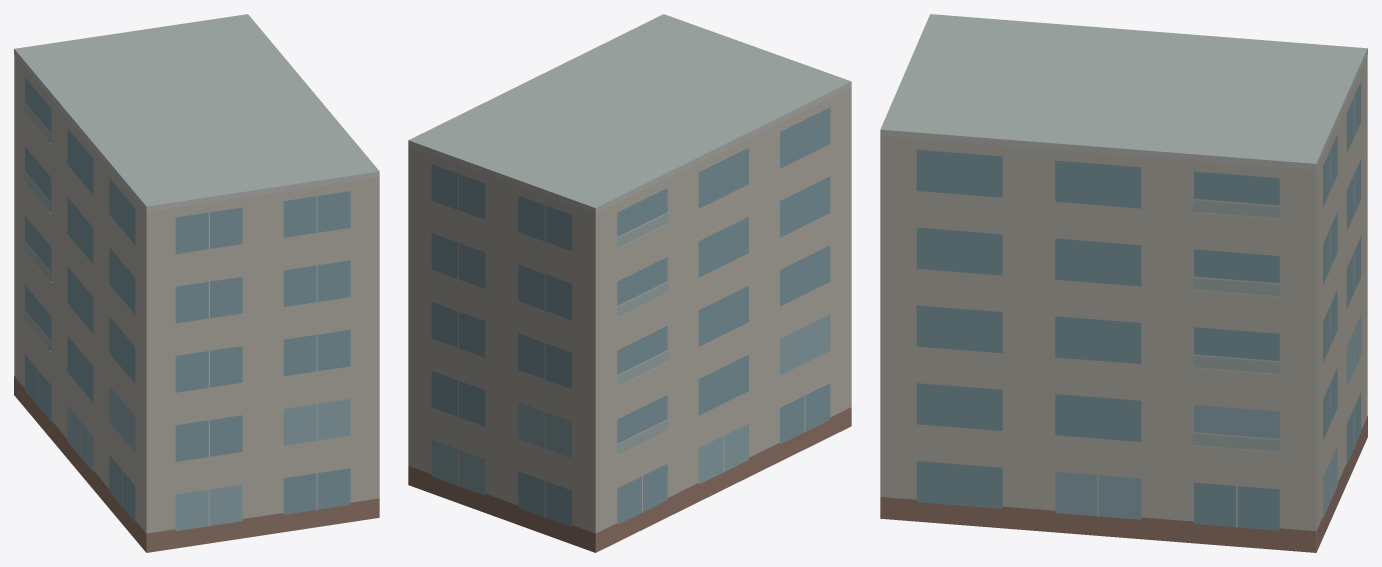
Rendered from survey-upis-32892660.glb.
3 views of the same model, side by side, from view 1: azimuth 30°, elevation 25°; view 2: azimuth 150°, elevation 25°; view 3: azimuth 270°, elevation 25° (orthographic). The views are drawn at different scales.
Visible parts, largest first — view 1: survey-upis-32892660.tmp; view 2: survey-upis-32892660.tmp; view 3: survey-upis-32892660.tmp.
Part boxes in pixels (<box>): survey-upis-32892660.tmp: <box>14,14,379,552</box>; survey-upis-32892660.tmp: <box>408,14,851,552</box>; survey-upis-32892660.tmp: <box>880,14,1367,552</box>.
Bounding box in the file's own units: 11.99 × 14.5 × 16.48.
